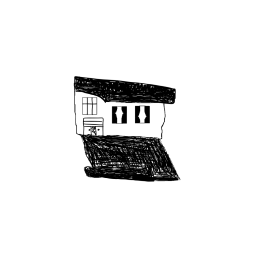closed_window: (79, 95, 100, 117)
door: (81, 116, 109, 140)
open_window: (133, 104, 152, 128), (110, 104, 129, 127)
shaded_roof: (64, 74, 189, 105)
shadow: (74, 133, 182, 188)
small_house: (0, 1, 253, 260)
wall: (71, 86, 173, 142)
